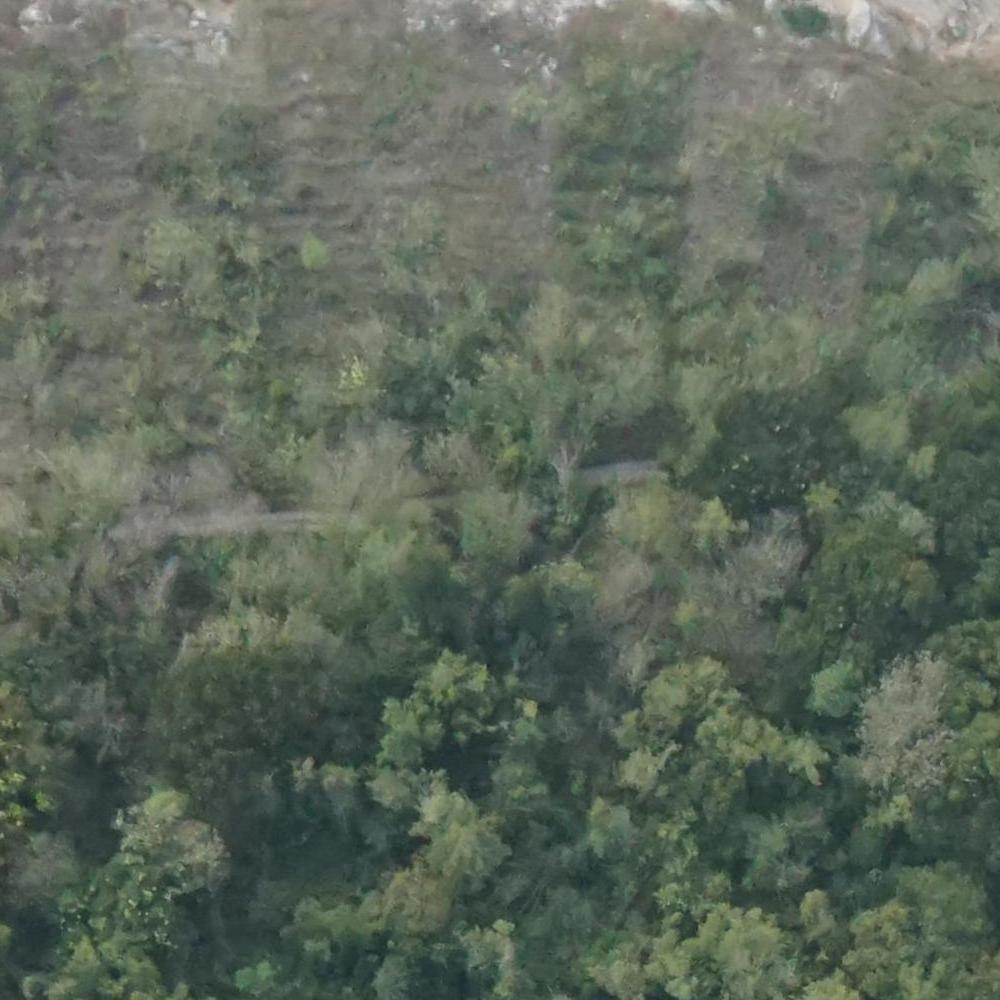tree: (423, 794, 516, 884), (514, 563, 600, 642), (643, 659, 726, 739), (412, 653, 488, 723), (853, 405, 931, 464), (379, 694, 437, 760), (580, 800, 638, 860), (805, 663, 869, 710), (803, 882, 851, 943), (771, 732, 826, 785), (697, 503, 746, 560), (625, 753, 670, 796)
